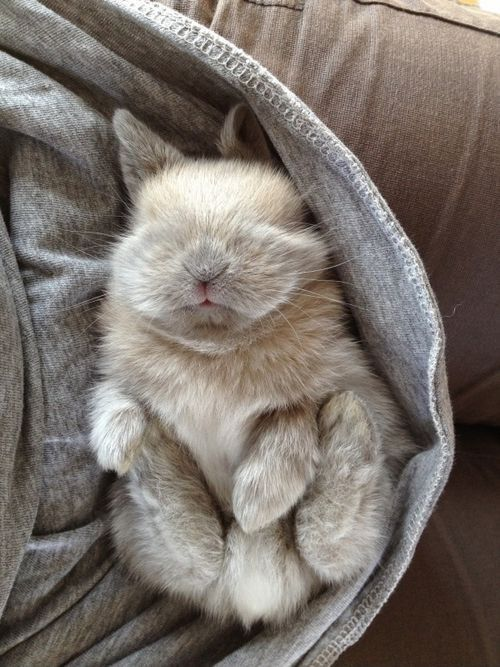bunny: (75, 95, 413, 632)
